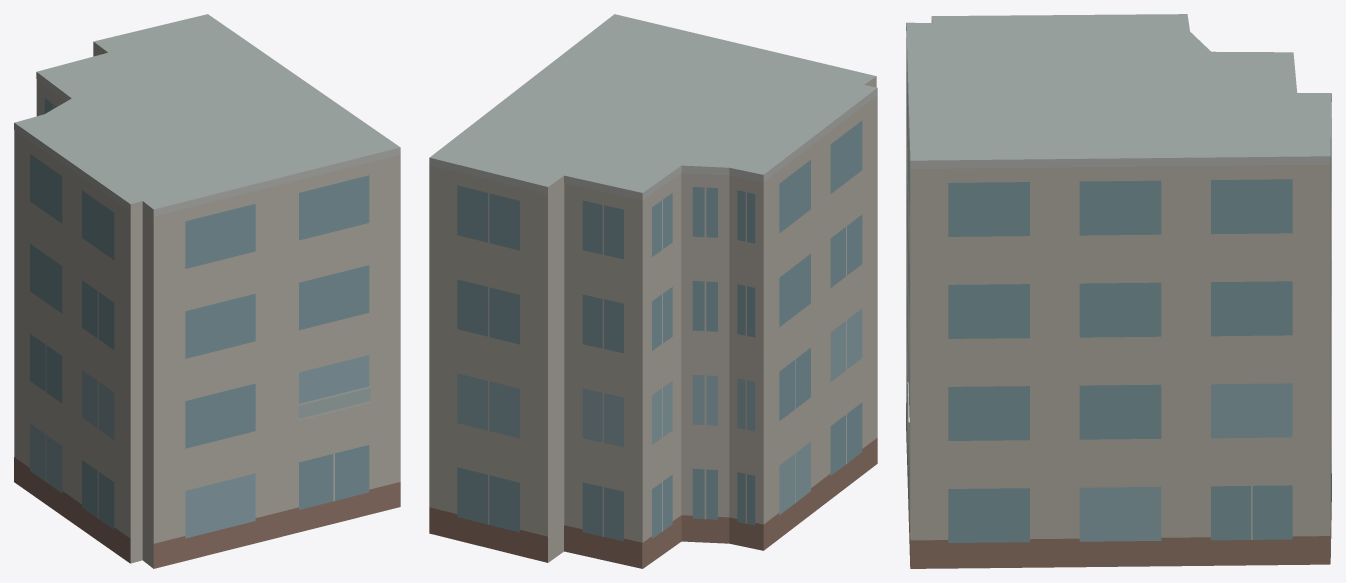
File: survey-upis-32628440.glb
The picture shows the model from 3 angles, left to right: view 1: azimuth 30°, elevation 25°; view 2: azimuth 150°, elevation 25°; view 3: azimuth 270°, elevation 25°; orthographic projection. The views are drawn at different scales.
Visible parts, largest first — view 1: survey-upis-32628440.tmp; view 2: survey-upis-32628440.tmp; view 3: survey-upis-32628440.tmp.
Part boxes in pixels (x1,y1,x2,y2): survey-upis-32628440.tmp: (14,14,400,568); survey-upis-32628440.tmp: (429,14,877,568); survey-upis-32628440.tmp: (906,14,1331,568).
Bounding box in the file's own units: 9.33 × 12.1 × 11.44.
